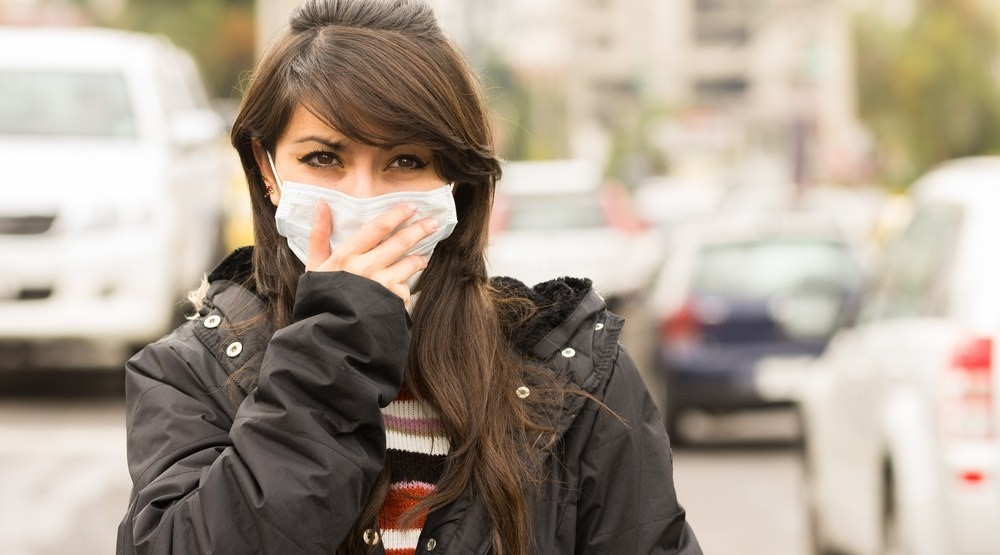face_with_mask: (229, 0, 497, 315)
